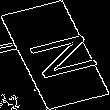N_E: (12, 27, 98, 83)
